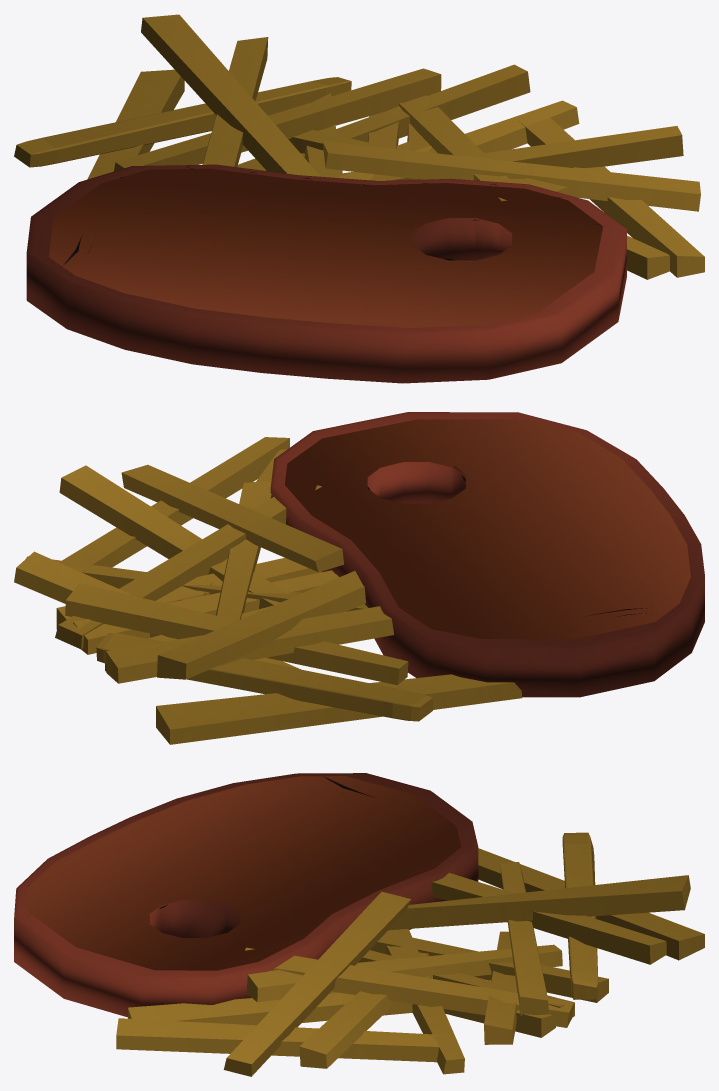
Rendered from SteakChips.glb.
The picture shows the model from 3 angles, top to bottom: view 1: azimuth 30°, elevation 25°; view 2: azimuth 150°, elevation 25°; view 3: azimuth 270°, elevation 25°; orthographic projection. The views are drawn at different scales.
Parts seen in each view (by area): view 1: SteakChips; view 2: SteakChips; view 3: SteakChips.
Part boxes in pixels (x1,y1,x2,y2): SteakChips: (14, 14, 704, 383); SteakChips: (14, 412, 704, 744); SteakChips: (14, 773, 704, 1076).
Bounding box in the file's own units: 0.2802 × 0.0441 × 0.2991.
Materials: 1 (1 with a texture image).
